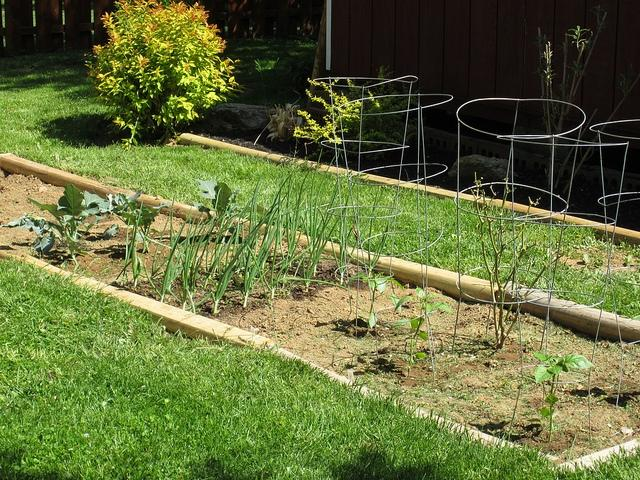green onion: (195, 206, 278, 314), (262, 215, 346, 299), (330, 176, 384, 284), (287, 201, 348, 296), (232, 202, 282, 307), (347, 188, 403, 276), (144, 213, 191, 303), (298, 170, 332, 276), (148, 210, 186, 284), (182, 204, 207, 314), (237, 189, 266, 268), (136, 236, 192, 275), (203, 229, 229, 288), (286, 168, 295, 255), (192, 234, 202, 286), (193, 254, 202, 290), (266, 222, 277, 250), (171, 264, 184, 283), (275, 260, 286, 282), (172, 284, 183, 304), (234, 264, 253, 273), (247, 271, 249, 282), (212, 283, 216, 288)
